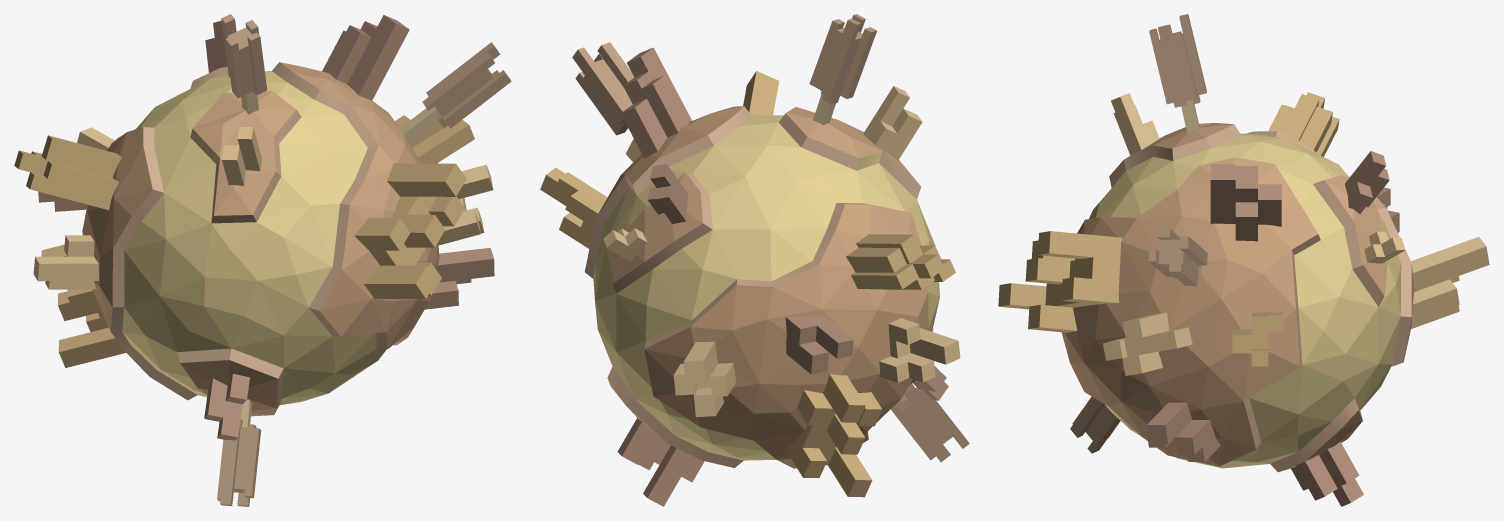
The model's file is Planete_Electro_-_Finale.fbx.
3 views of the same model, side by side, from view 1: azimuth 30°, elevation 25°; view 2: azimuth 150°, elevation 25°; view 3: azimuth 270°, elevation 25° (orthographic). The views are drawn at different scales.
Parts seen in each view (by area): view 1: group66_pasted__group32_pasted__pasted__group25_pasted__past; view 2: group66_pasted__group32_pasted__pasted__group25_pasted__past; view 3: group66_pasted__group32_pasted__pasted__group25_pasted__past.
Part boxes in pixels (x1=…): group66_pasted__group32_pasted__pasted__group25_pasted__past: x1=14, y1=14, x2=511, y2=506; group66_pasted__group32_pasted__pasted__group25_pasted__past: x1=540, y1=14, x2=969, y2=506; group66_pasted__group32_pasted__pasted__group25_pasted__past: x1=998, y1=14, x2=1489, y2=506.
Size of the model in its own units: 28.67 by 29.38 by 28.93.
